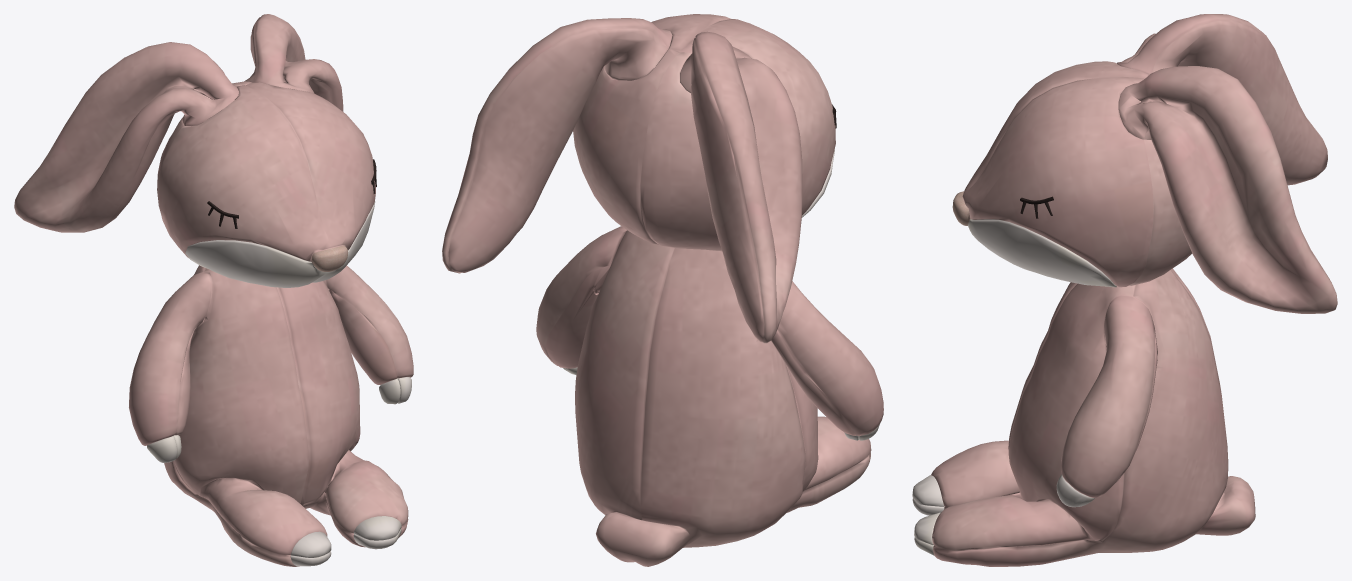
The model's file is Kid_Toy_11.glb.
3 renders of one model, left to right at view 1: azimuth 30°, elevation 25°; view 2: azimuth 150°, elevation 25°; view 3: azimuth 270°, elevation 25°, orthographic. The views are drawn at different scales.
Visible parts, largest first — view 1: BP_Kid_Toy_11; view 2: BP_Kid_Toy_11; view 3: BP_Kid_Toy_11.
Part boxes in pixels (box(x1,y1,x2,y2)): BP_Kid_Toy_11: box(14, 14, 413, 566); BP_Kid_Toy_11: box(442, 14, 883, 566); BP_Kid_Toy_11: box(912, 14, 1337, 566).
Bounding box in the file's own units: 0.0962 × 0.1383 × 0.1081.
Materials: 4 (4 with a texture image).
